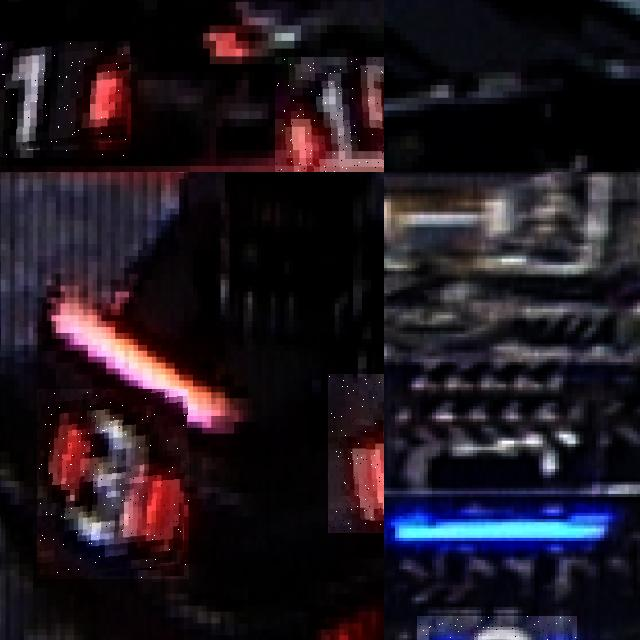B2: (417, 616, 577, 640)
R1: (0, 41, 131, 158), (275, 56, 384, 172)
R3: (37, 389, 189, 579), (328, 374, 384, 534)
